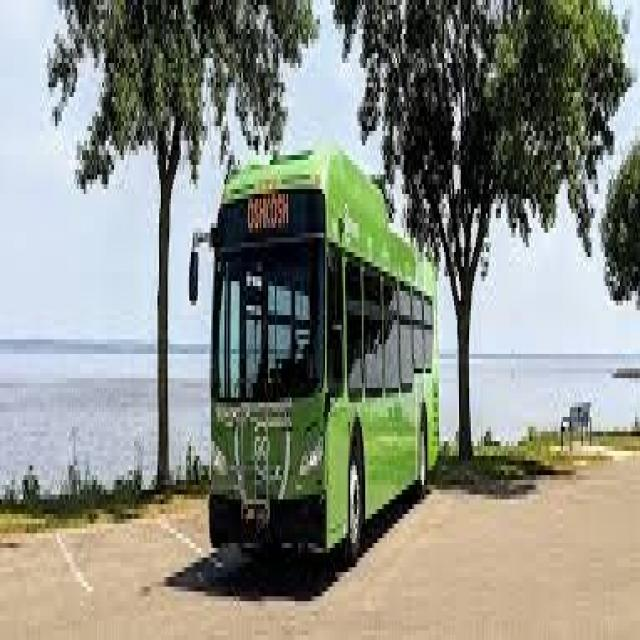bus: (212, 143, 443, 565)
